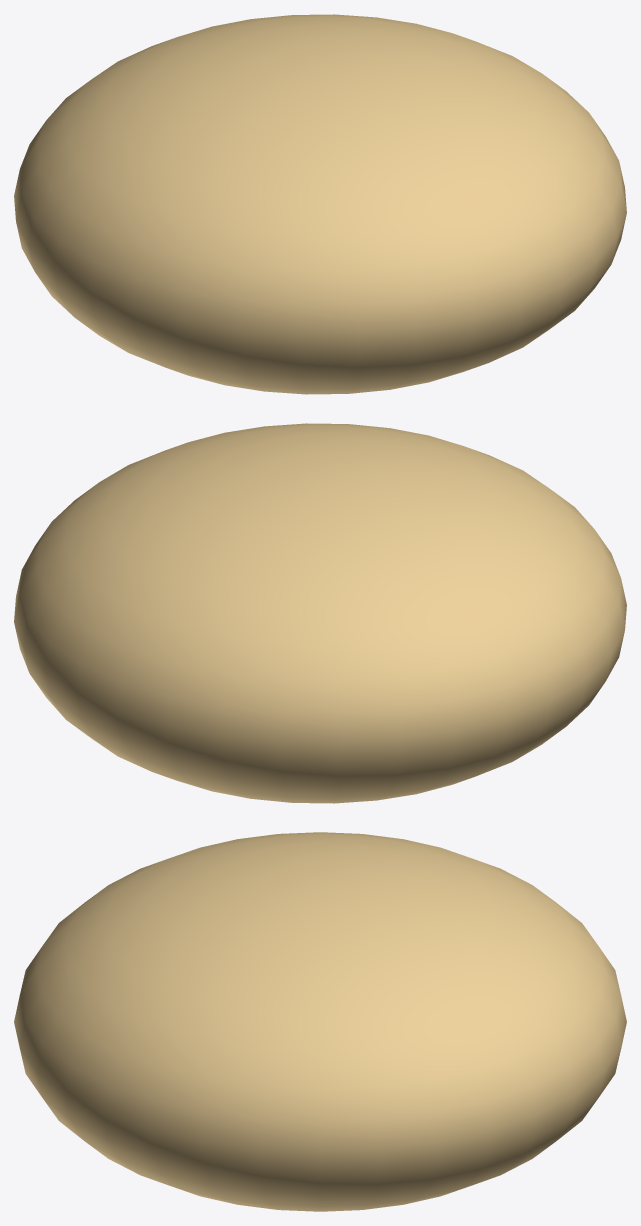
File: bread.glb
3 views of the same model, one above another, from view 1: azimuth 30°, elevation 25°; view 2: azimuth 150°, elevation 25°; view 3: azimuth 270°, elevation 25° (orthographic).
Visible parts, largest first — view 1: Sphere; view 2: Sphere; view 3: Sphere.
Part boxes in pixels (bbox=[...]): Sphere: bbox=[14, 14, 626, 394]; Sphere: bbox=[14, 423, 626, 803]; Sphere: bbox=[14, 832, 626, 1211].
Size of the model in its own units: 0.18 by 0.09 by 0.18.
